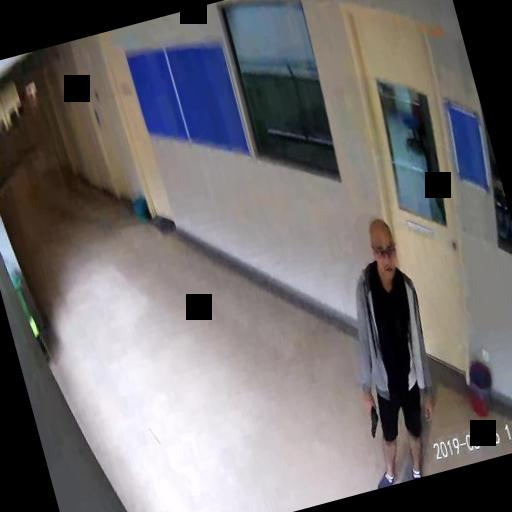Handgun: (360, 396, 382, 438)
